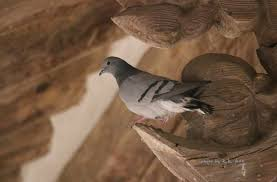pigeon: (93, 50, 215, 136)
